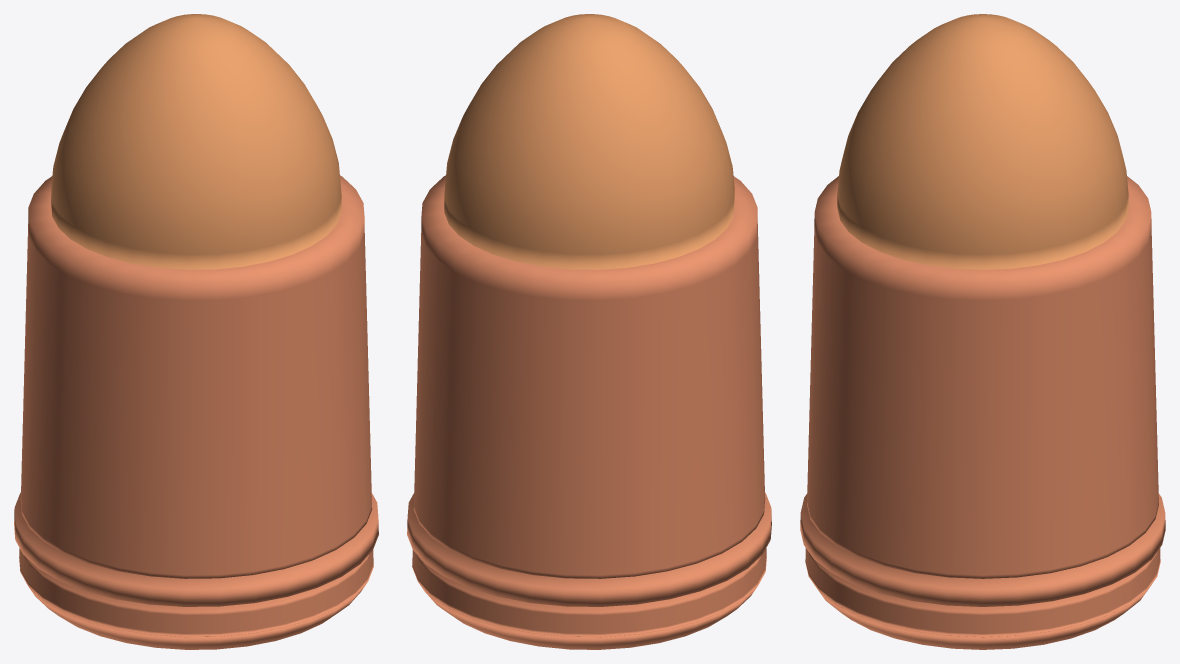
The model's file is Bullet.fbx.
The picture shows the model from 3 angles, left to right: view 1: azimuth 30°, elevation 25°; view 2: azimuth 150°, elevation 25°; view 3: azimuth 270°, elevation 25°; orthographic projection.
Parts seen in each view (by area): view 1: Cylinder; view 2: Cylinder; view 3: Cylinder.
Part boxes in pixels (bbox=[...]): Cylinder: bbox=[14, 14, 378, 649]; Cylinder: bbox=[407, 14, 771, 649]; Cylinder: bbox=[800, 14, 1165, 649].
Bounding box in the file's own units: 35.36 × 60.84 × 35.36.
